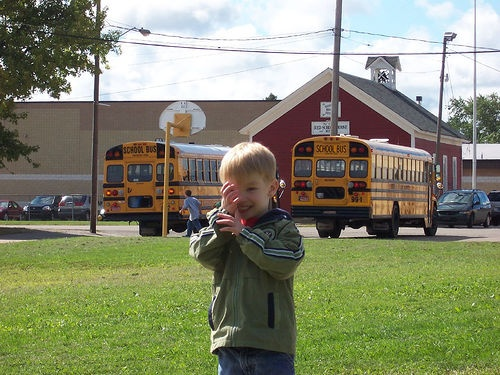head: (219, 143, 281, 221), (184, 188, 193, 201)
person: (187, 143, 305, 372), (177, 189, 200, 235)
